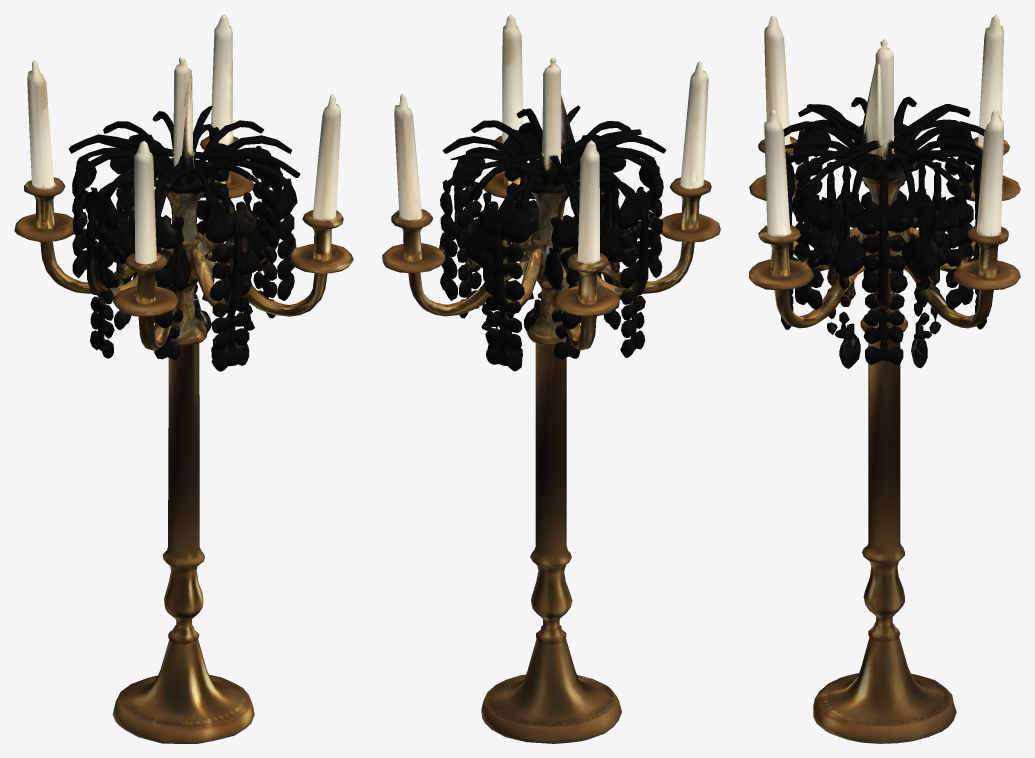
Rendered from Five_Arm_Brass_Candelabra_tablecenter_tableheight_0227135932_texture.glb.
3 renders of one model, left to right at view 1: azimuth 30°, elevation 25°; view 2: azimuth 150°, elevation 25°; view 3: azimuth 270°, elevation 25°, orthographic. The views are drawn at different scales.
Visible parts, largest first — view 1: Mesh_0; view 2: Mesh_0; view 3: Mesh_0.
Boxes of the visible parts, x1,y1,x2,y2 form: Mesh_0: (14, 14, 353, 743); Mesh_0: (382, 14, 720, 743); Mesh_0: (749, 14, 1020, 743).
Bounding box in the file's own units: 0.3081 × 0.8382 × 0.3064.
Materials: 1 (1 with a texture image).
